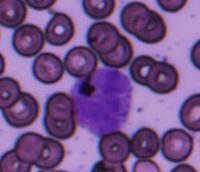B: (73, 66, 133, 134)
